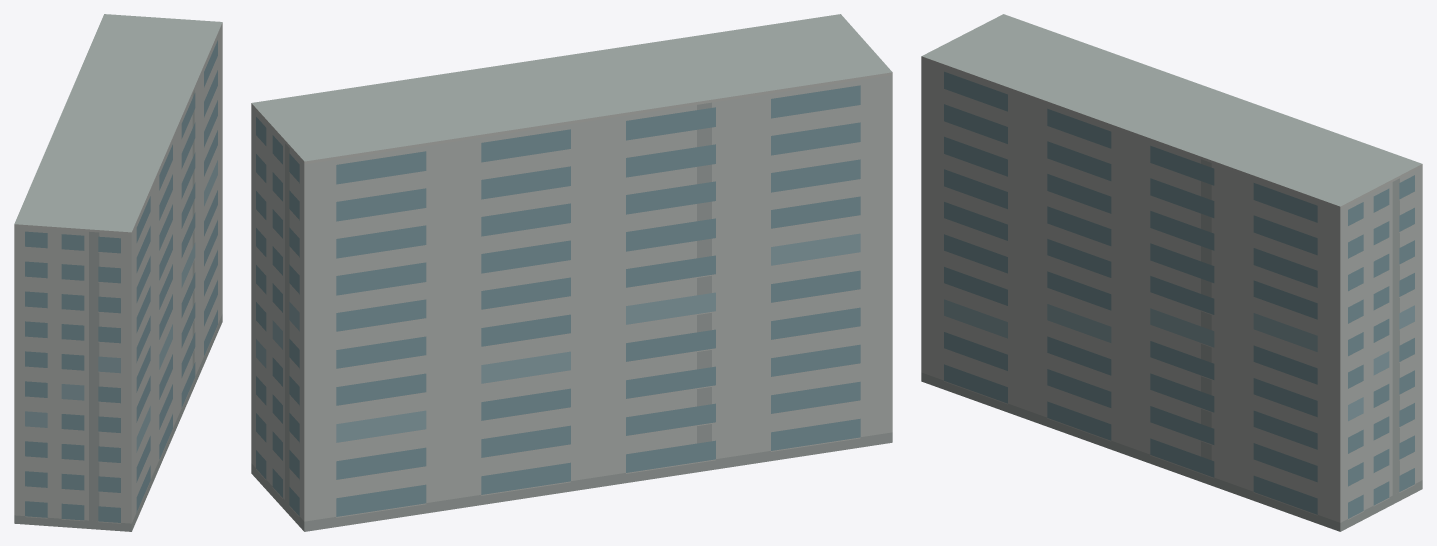
Rendered from residential-55b90adf-5f77-4a43-89e7-e0fb65f4a84b.glb.
3 renders of one model, left to right at view 1: azimuth 30°, elevation 25°; view 2: azimuth 150°, elevation 25°; view 3: azimuth 270°, elevation 25°, orthographic. The views are drawn at different scales.
Parts seen in each view (by area): view 1: residential-55b90adf-5f77-4a43-89e7-e0fb65f4a84b.tmp; view 2: residential-55b90adf-5f77-4a43-89e7-e0fb65f4a84b.tmp; view 3: residential-55b90adf-5f77-4a43-89e7-e0fb65f4a84b.tmp.
Part boxes in pixels (x1=…): residential-55b90adf-5f77-4a43-89e7-e0fb65f4a84b.tmp: x1=14, y1=14, x2=222, y2=531; residential-55b90adf-5f77-4a43-89e7-e0fb65f4a84b.tmp: x1=251, y1=14, x2=892, y2=531; residential-55b90adf-5f77-4a43-89e7-e0fb65f4a84b.tmp: x1=921, y1=14, x2=1422, y2=531.
Bounding box in the file's own units: 39.38 × 31 × 43.28.
